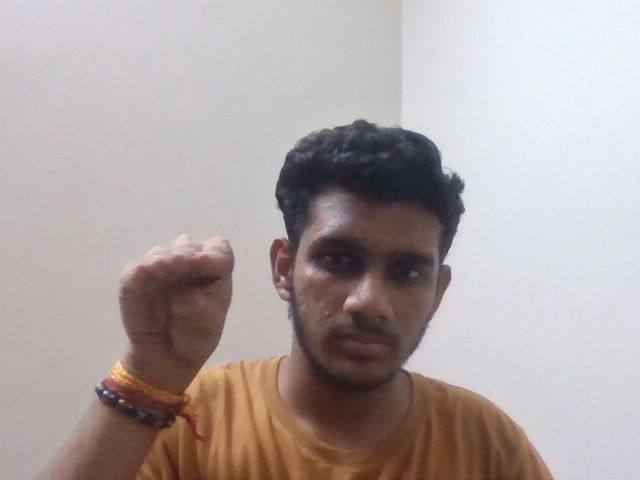no: (95, 227, 277, 365)
